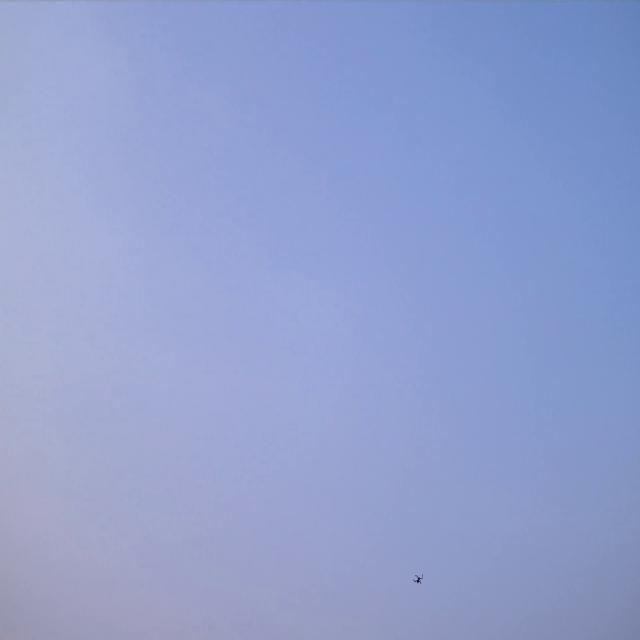UAV: (412, 571, 424, 585)
